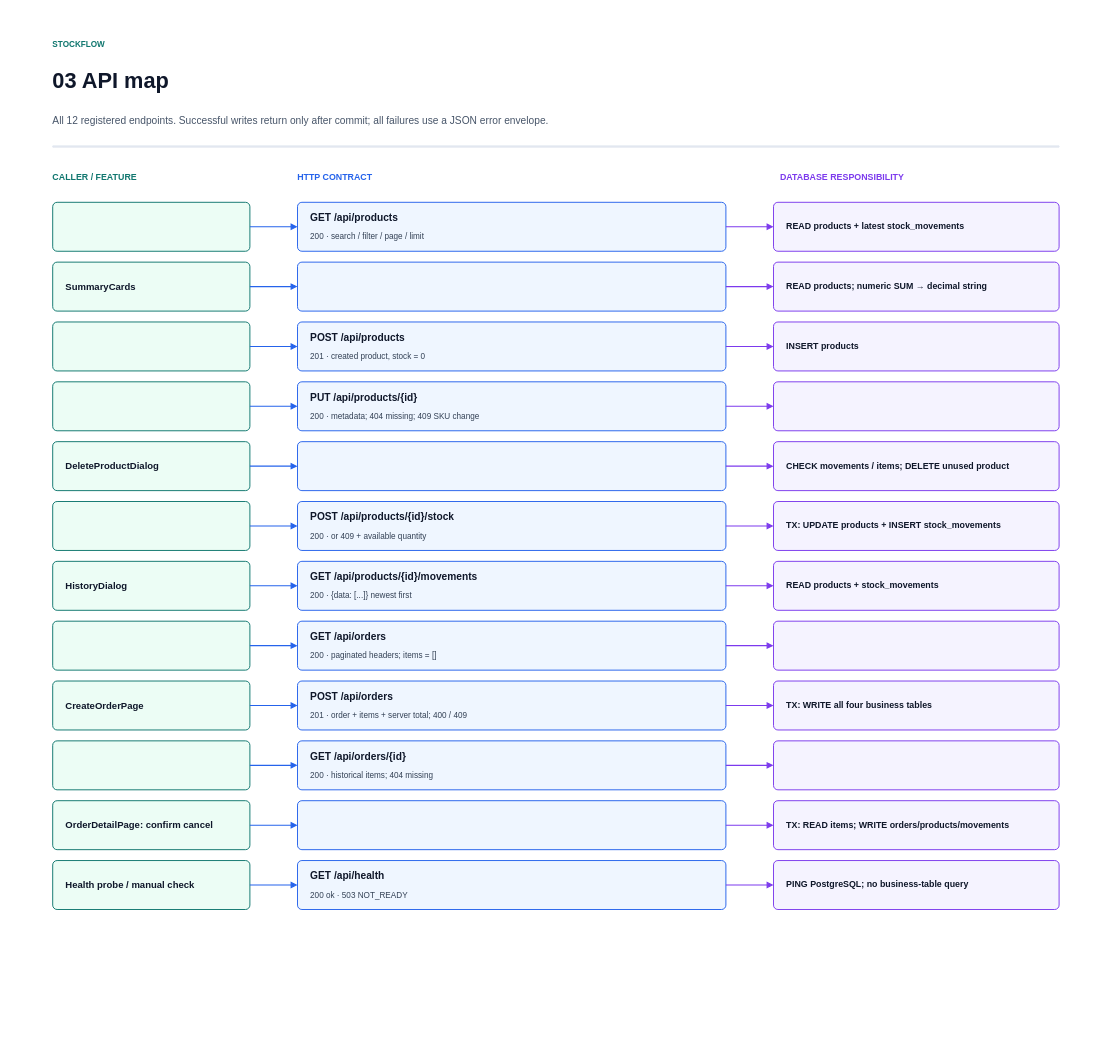
The diagram is 1112 pixels wide and 1051 high, and some of its shapes have lost their labels. The centre of each missing label's shape, as x and y in pixels:
DELETE /api/products/{id} 204 · or 409 PRODUCT_HAS_HISTORY: (511,466)
GET /api/products/summary 200 · whole-inventory counts and value: (511,286)
OrderDetailPage: (151,765)
OrdersPage: (151,645)
POST /api/orders/{id}/cancel 200 · CANCELLED; 409 already cancelled: (511,825)
ProductDialog: add: (151,346)
ProductDialog: edit: (151,406)
ProductsPage: (151,226)
READ sales_orders: (916,645)
READ sales_orders + sales_order_items: (916,765)
StockDialog: (151,526)
UPDATE products; stock is not accepted: (916,406)
